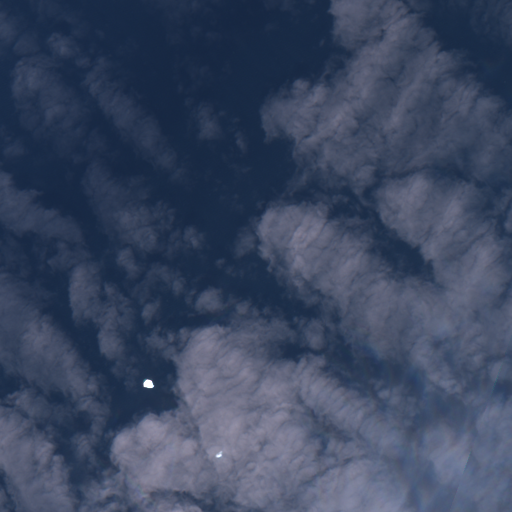Iceberg: (143, 379, 153, 387), (216, 451, 221, 457)
